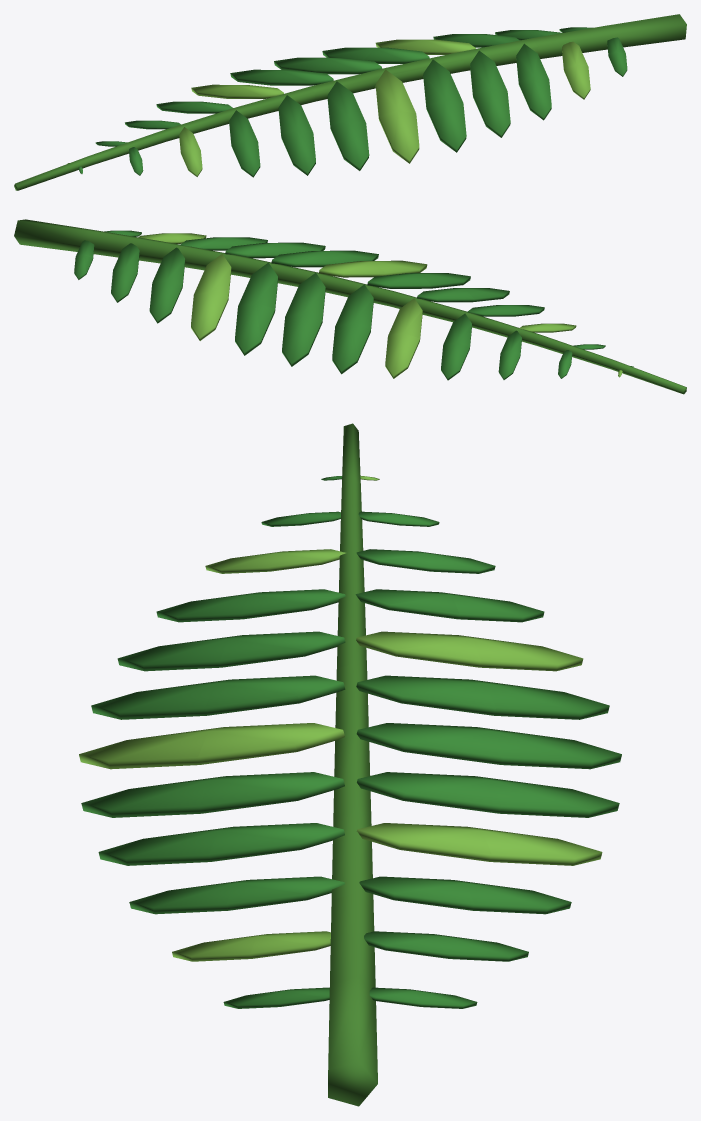
Rendered from canopy_fern_ledge.glb.
The picture shows the model from 3 angles, top to bottom: view 1: azimuth 30°, elevation 25°; view 2: azimuth 150°, elevation 25°; view 3: azimuth 270°, elevation 25°; orthographic projection. The views are drawn at different scales.
Parts seen in each view (by area): view 1: canopy_fern_ledge; view 2: canopy_fern_ledge; view 3: canopy_fern_ledge.
Boxes of the visible parts, box(x1,y1,x2,y2) form: canopy_fern_ledge: box(14, 14, 686, 190); canopy_fern_ledge: box(14, 219, 686, 394); canopy_fern_ledge: box(79, 423, 621, 1106).
Size of the model in its own units: 5.01 by 0.3176 by 1.77.
